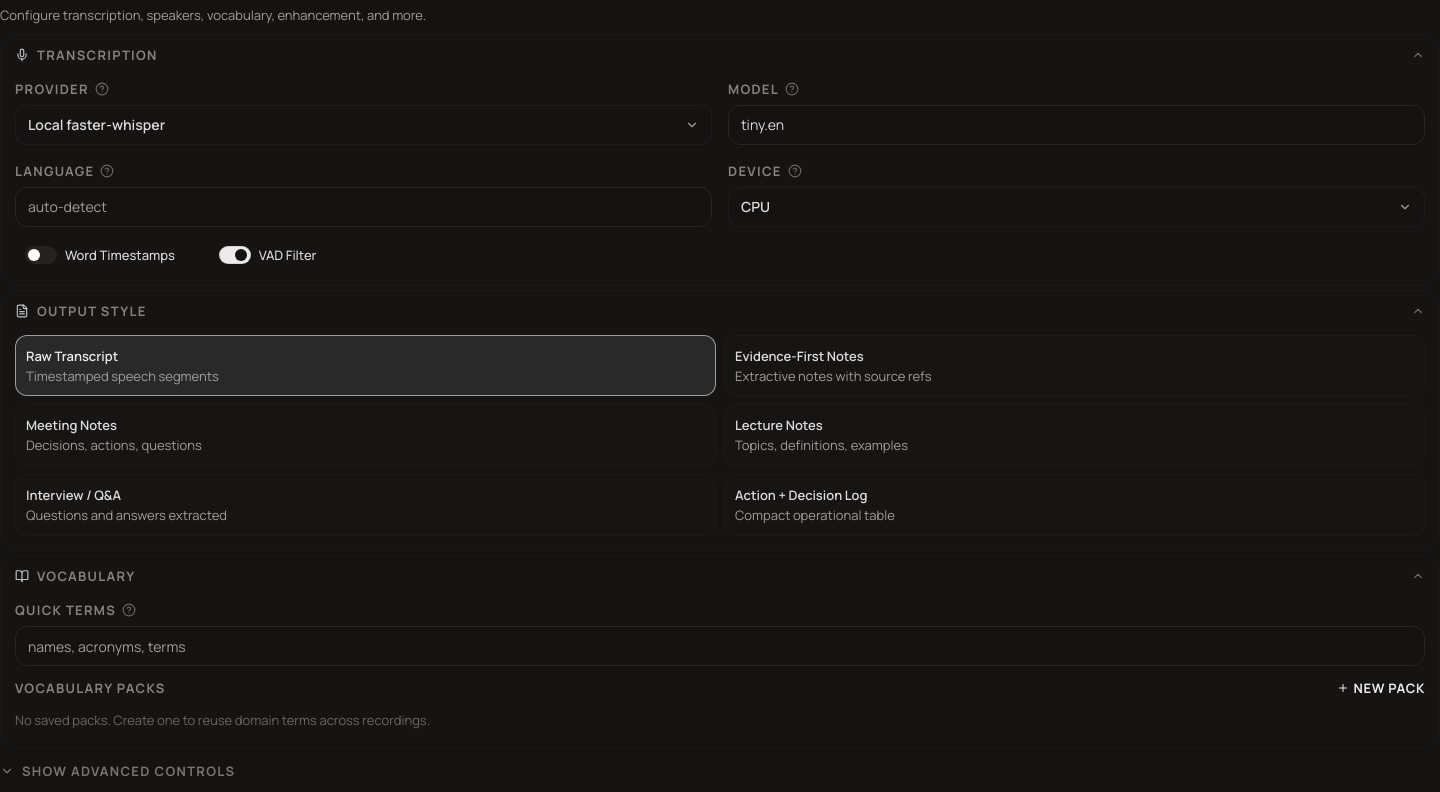
Scenario: AudioAdvancedSettings › shows advanced controls when toggle clicked
Click the button "Show Advanced Controls". click: (129, 771)
box: [0,753,1439,789]
(page scrolled)
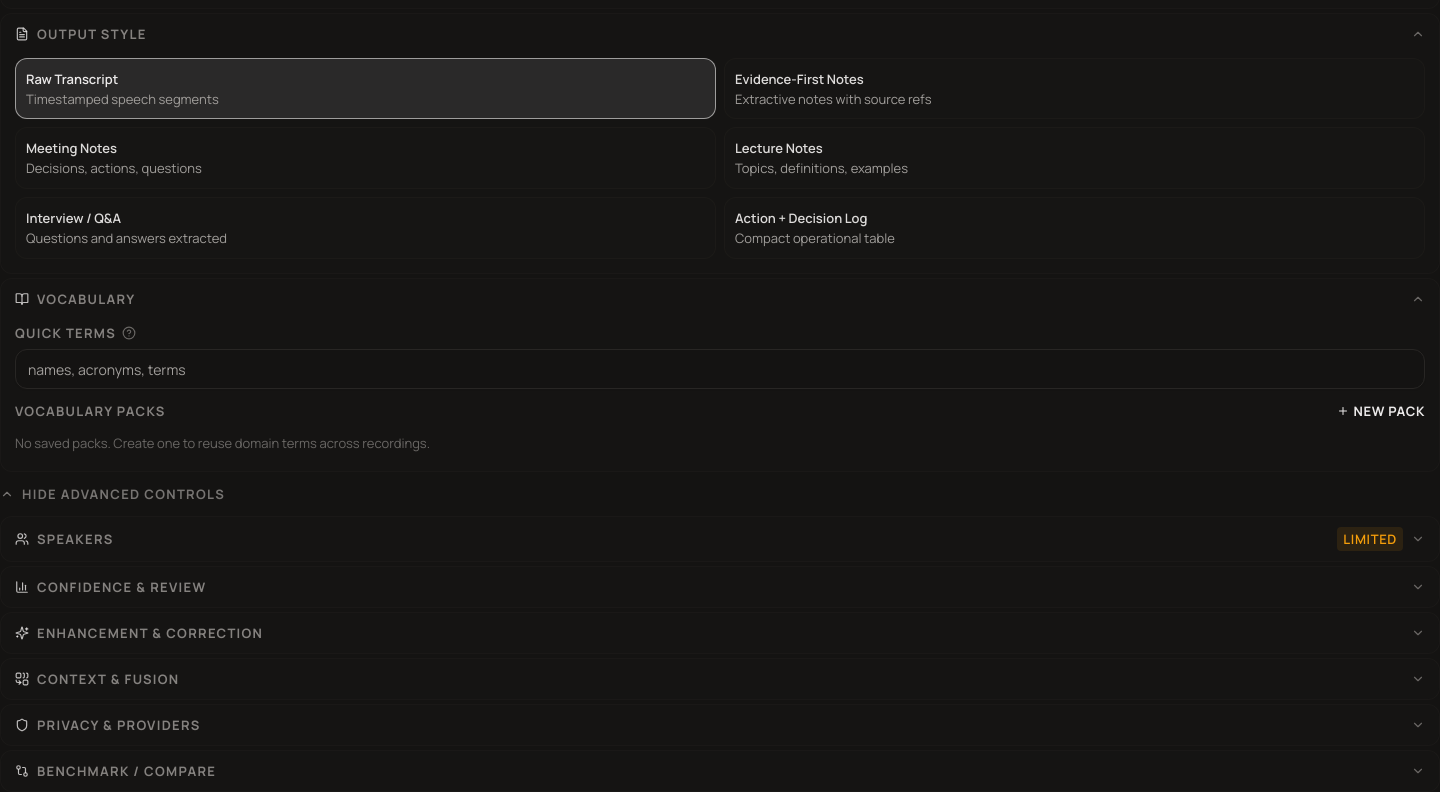
Check: the text "Speakers" is shown, box [37,530,114,548]
